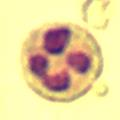neutrophil: (18, 20, 104, 102)
